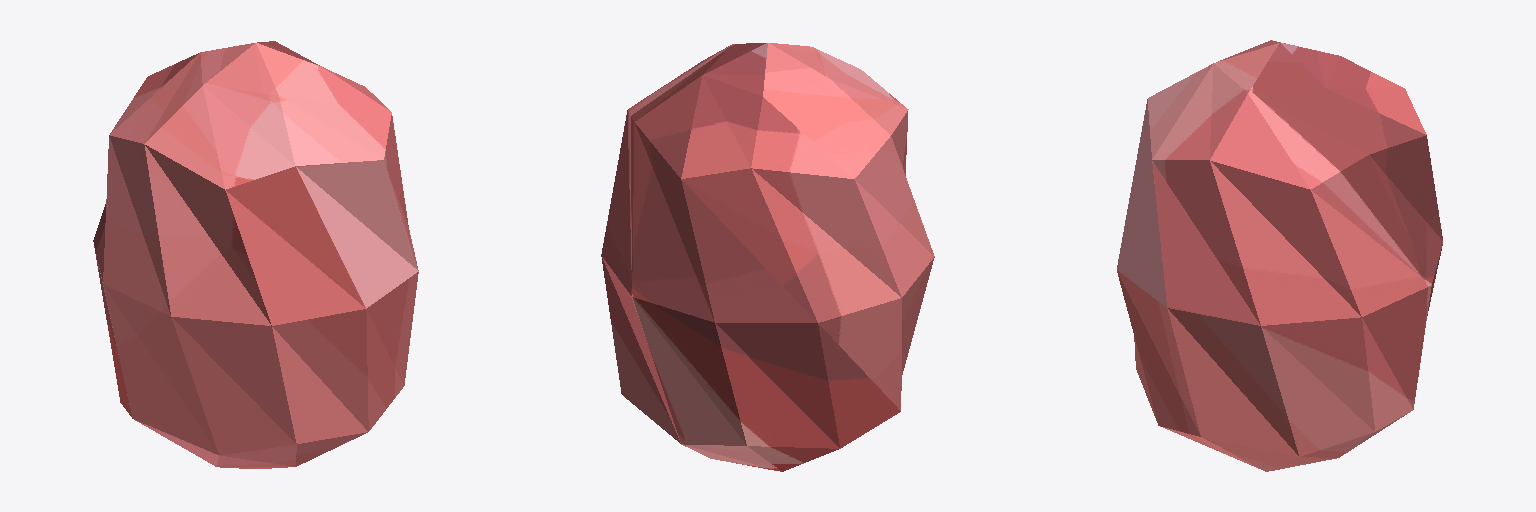
3 renders of one model, left to right at view 1: azimuth 30°, elevation 25°; view 2: azimuth 150°, elevation 25°; view 3: azimuth 270°, elevation 25°, orthographic.
Visible parts, largest first — view 1: Icosphere_Icosphere.002; view 2: Icosphere_Icosphere.002; view 3: Icosphere_Icosphere.002.
Part boxes in pixels (x1,y1,x2,y2): Icosphere_Icosphere.002: (93, 41, 418, 468); Icosphere_Icosphere.002: (601, 43, 934, 471); Icosphere_Icosphere.002: (1117, 40, 1442, 471).
Size of the model in its own units: 2.67 by 3.8 by 2.64.
Materials: 1 (1 with a texture image).